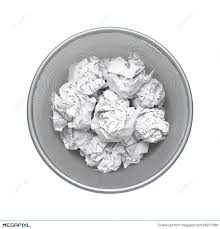paper: (89, 90, 139, 147), (47, 82, 98, 137), (97, 53, 150, 100), (64, 58, 114, 100), (132, 106, 177, 145), (75, 135, 113, 173), (133, 75, 168, 112)
